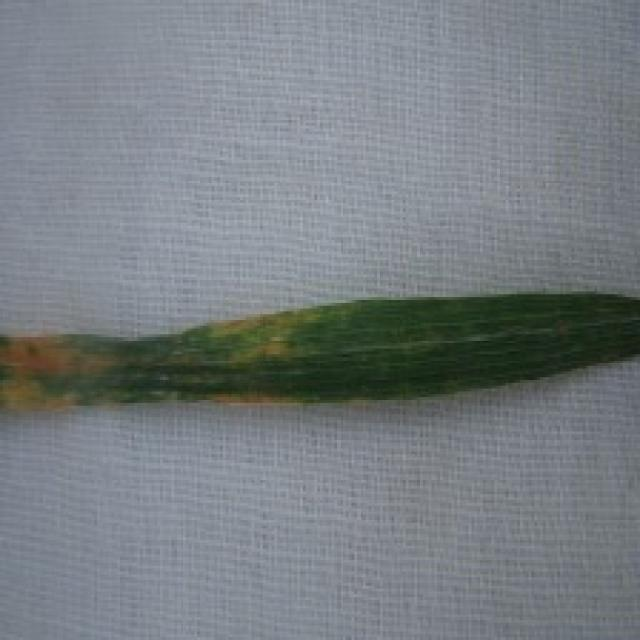Bacterial_Blight: (0, 318, 132, 425), (186, 302, 364, 348), (188, 381, 366, 426)
